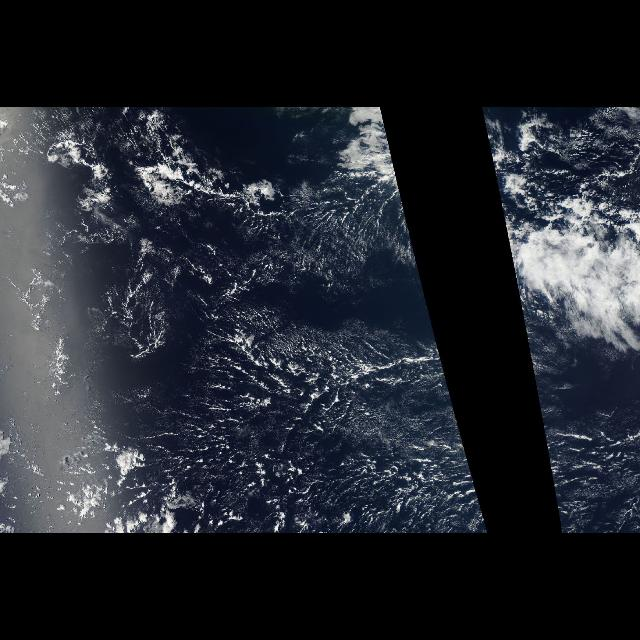Fish: (129, 126, 259, 234)
Gravel: (91, 267, 458, 425), (512, 267, 640, 425)
Sugar: (125, 230, 489, 532)
